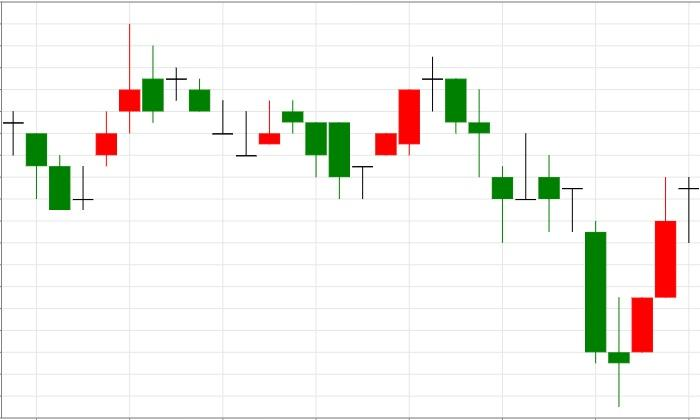morning_star_rise: (422, 56, 653, 408)
